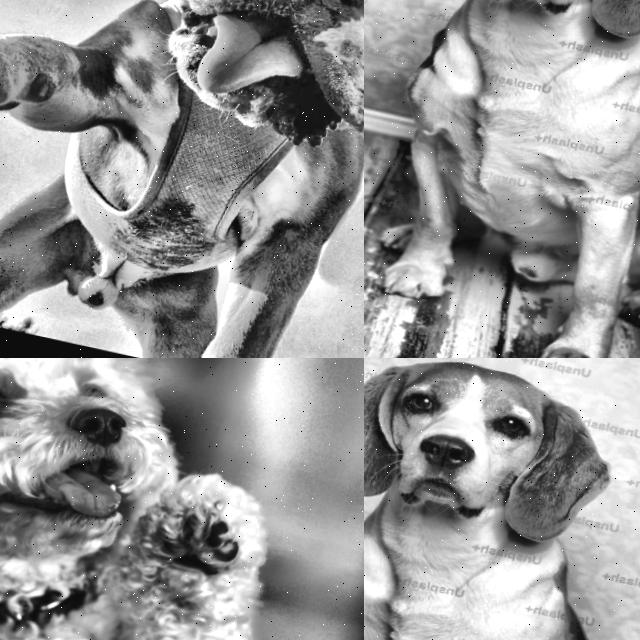beagle: (364, 358, 640, 602), (367, 0, 640, 98)
bulldog: (86, 0, 364, 201)
poodle: (0, 358, 270, 620)
